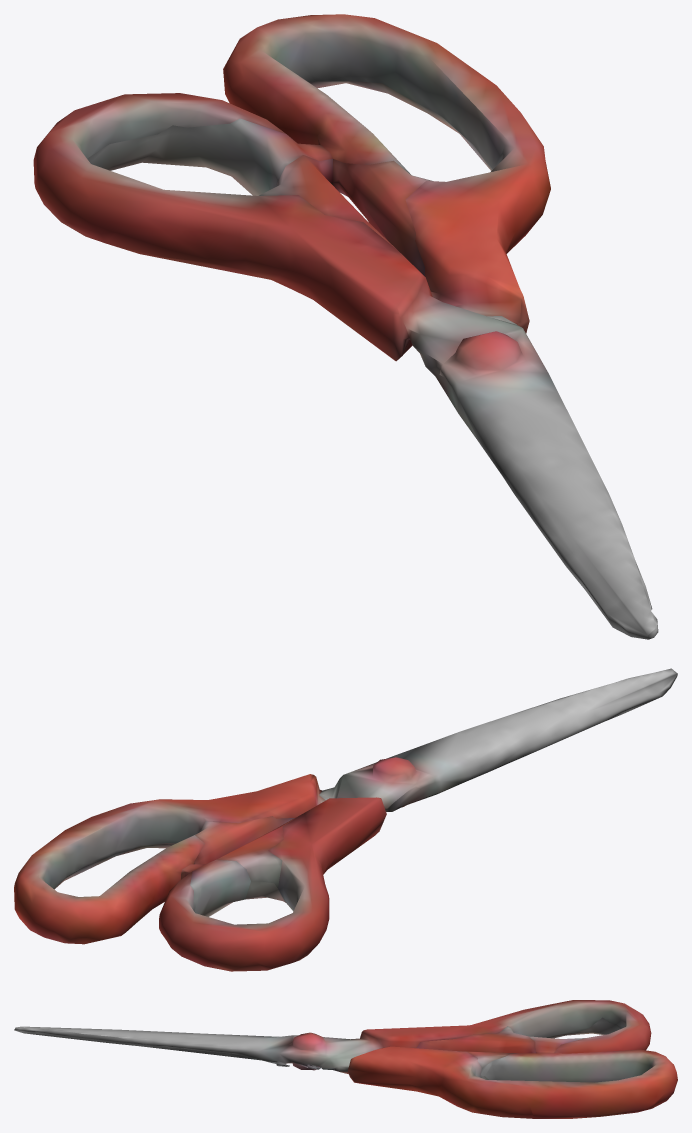
Rendered from Diamond_Visions_Scissors_Red-medium.glb.
The picture shows the model from 3 angles, top to bottom: view 1: azimuth 30°, elevation 25°; view 2: azimuth 150°, elevation 25°; view 3: azimuth 270°, elevation 25°; orthographic projection. The views are drawn at different scales.
Parts seen in each view (by area): view 1: Diamond_Visions_Scissors_Red; view 2: Diamond_Visions_Scissors_Red; view 3: Diamond_Visions_Scissors_Red.
Part boxes in pixels (x1=…): Diamond_Visions_Scissors_Red: x1=33, y1=14, x2=658, y2=639; Diamond_Visions_Scissors_Red: x1=14, y1=668, x2=677, y2=971; Diamond_Visions_Scissors_Red: x1=14, y1=1000, x2=677, y2=1118.
Bounding box in the file's own units: 0.0763 × 0.0145 × 0.2096.
Materials: 1 (1 with a texture image).
